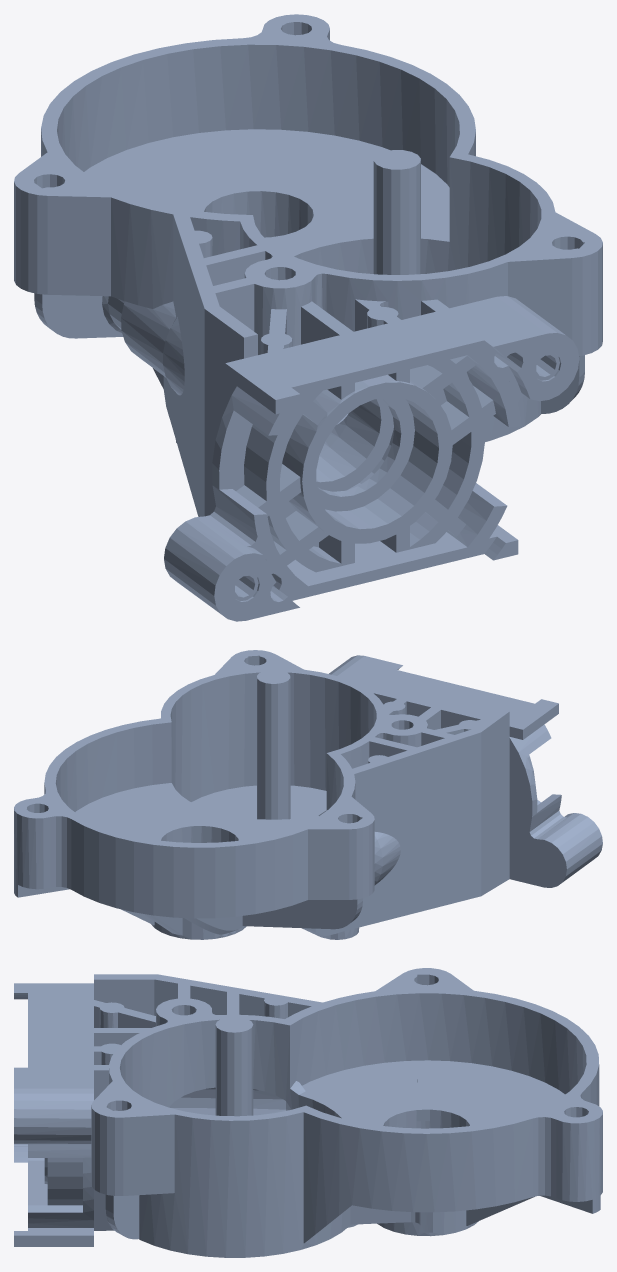
The model's file is Getriebegehaeuse_typ4.glb.
The picture shows the model from 3 angles, top to bottom: view 1: azimuth 30°, elevation 25°; view 2: azimuth 150°, elevation 25°; view 3: azimuth 270°, elevation 25°; orthographic projection. The views are drawn at different scales.
Parts seen in each view (by area): view 1: Getriebegehaeuse_typ4; view 2: Getriebegehaeuse_typ4; view 3: Getriebegehaeuse_typ4.
Boxes of the visible parts, x1,y1,x2,y2 form: Getriebegehaeuse_typ4: [14, 14, 602, 621]; Getriebegehaeuse_typ4: [14, 650, 602, 939]; Getriebegehaeuse_typ4: [14, 968, 602, 1257].
Bounding box in the file's own units: 0.0719 × 0.0403 × 0.0938.
